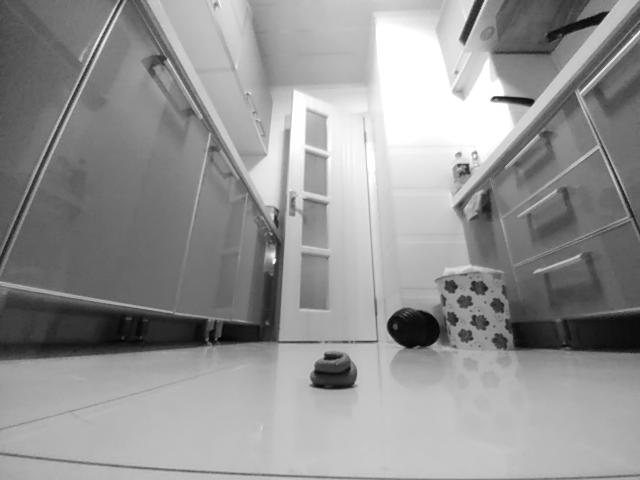pet feces: (309, 350, 358, 389)
